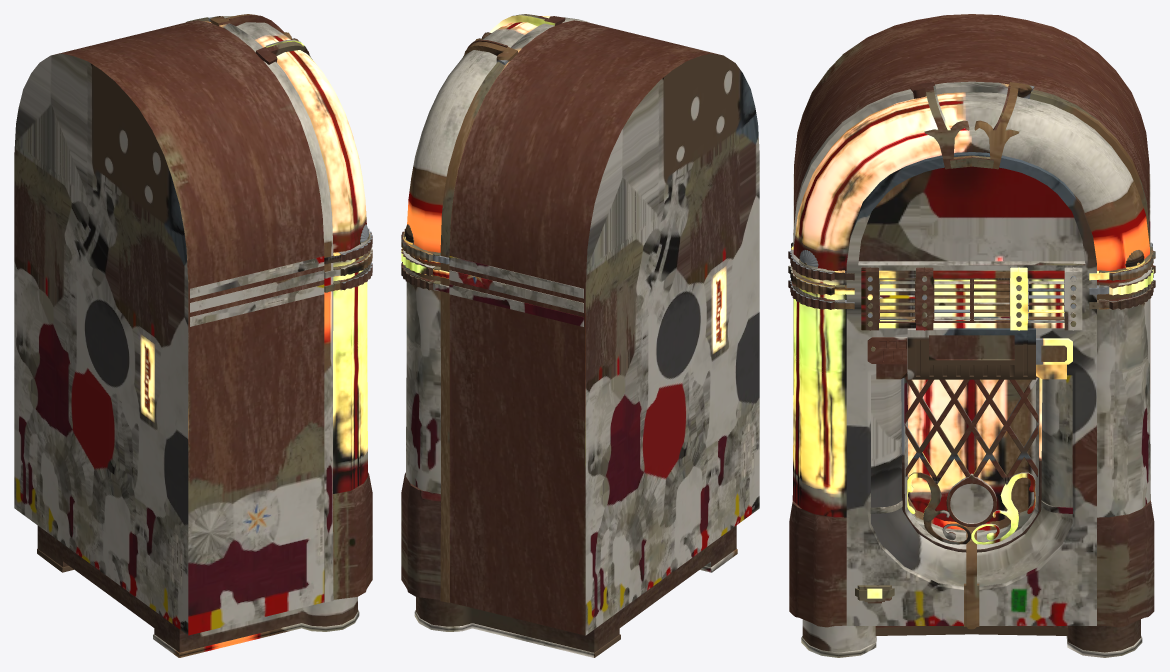
File: jukebox.glb
3 renders of one model, left to right at view 1: azimuth 30°, elevation 25°; view 2: azimuth 150°, elevation 25°; view 3: azimuth 270°, elevation 25°, orthographic. The views are drawn at different scales.
Parts seen in each view (by area): view 1: lambert1; view 2: lambert1; view 3: lambert1, lambert2.
Part boxes in pixels (x1,y1,x2,y2): lambert1: (14, 14, 372, 657); lambert1: (401, 14, 759, 657); lambert1: (788, 14, 1155, 657); lambert2: (858, 166, 1084, 261).
Bounding box in the file's own units: 207 × 492 × 297.
1 material, 1 textured.
